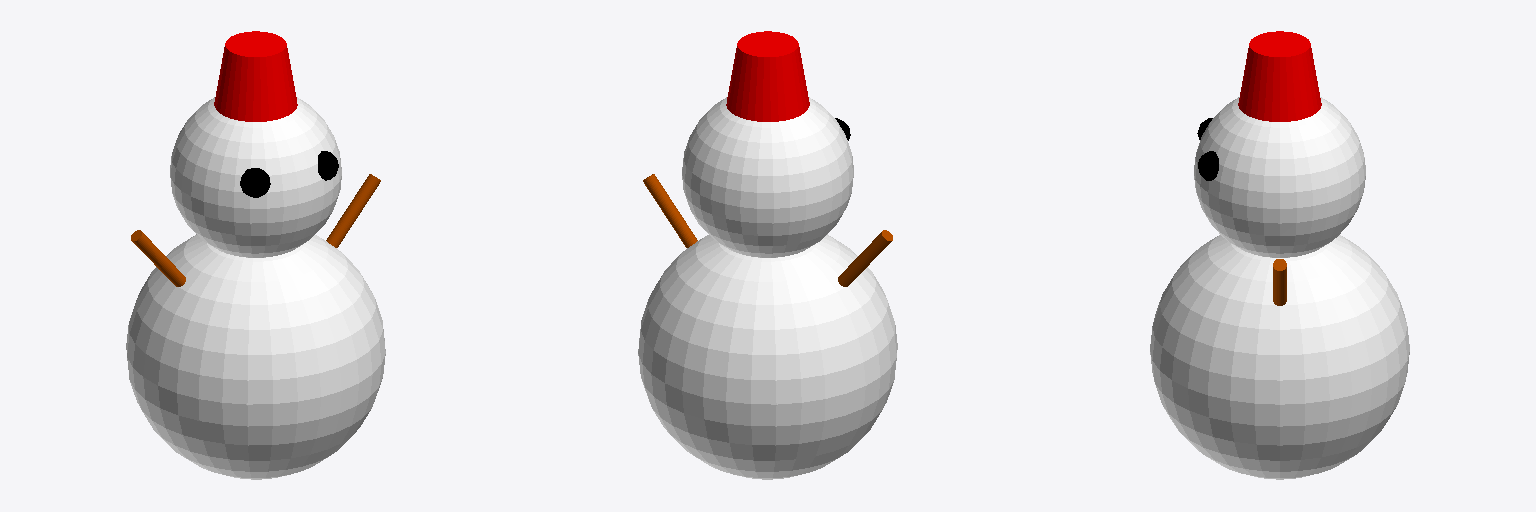
3 renders of one model, left to right at view 1: azimuth 30°, elevation 25°; view 2: azimuth 150°, elevation 25°; view 3: azimuth 270°, elevation 25°, orthographic.
Visible parts, largest first — view 1: 円柱.002; view 2: 円柱.002; view 3: 円柱.002.
Boxes of the visible parts, x1=… form: 円柱.002: x1=126, y1=31, x2=385, y2=479; 円柱.002: x1=638, y1=31, x2=897, y2=479; 円柱.002: x1=1150, y1=31, x2=1409, y2=479.
Size of the model in its own units: 1.33 by 2.17 by 1.21.
Materials: 1 (1 with a texture image).